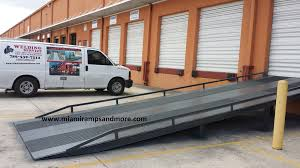Yard Ramp: (14, 72, 300, 161)
